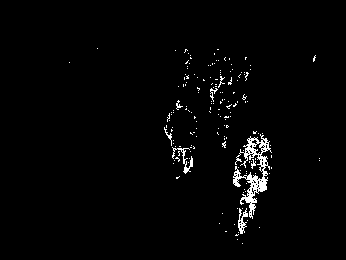person: (232, 127, 274, 238), (163, 98, 201, 180), (209, 75, 237, 148)
